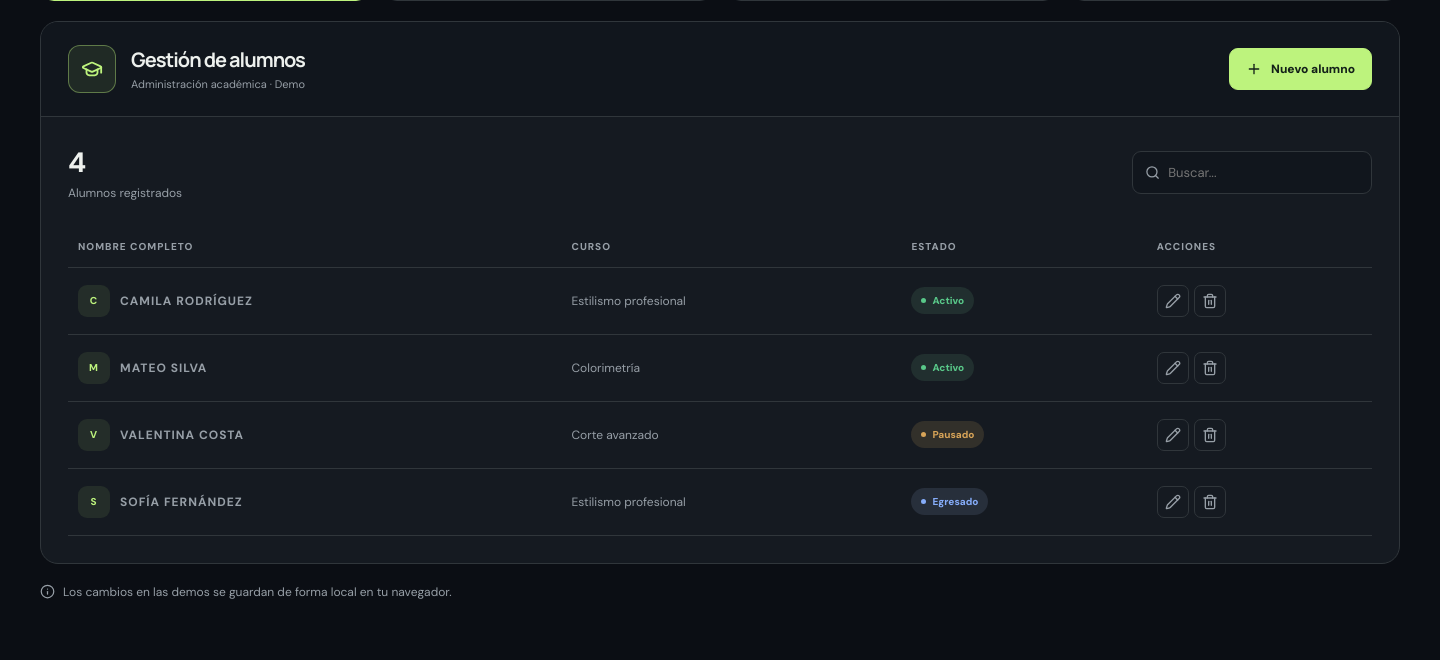
Test: Laboratory — additional business workflow regressions › updates an existing student without duplicating the record
The width and height of the screenshot is (1440, 660).
(page scrolled)
Click the button named "Editar: Camila Rodríguez".
click(1173, 301)  # box [1157,285,1189,317]
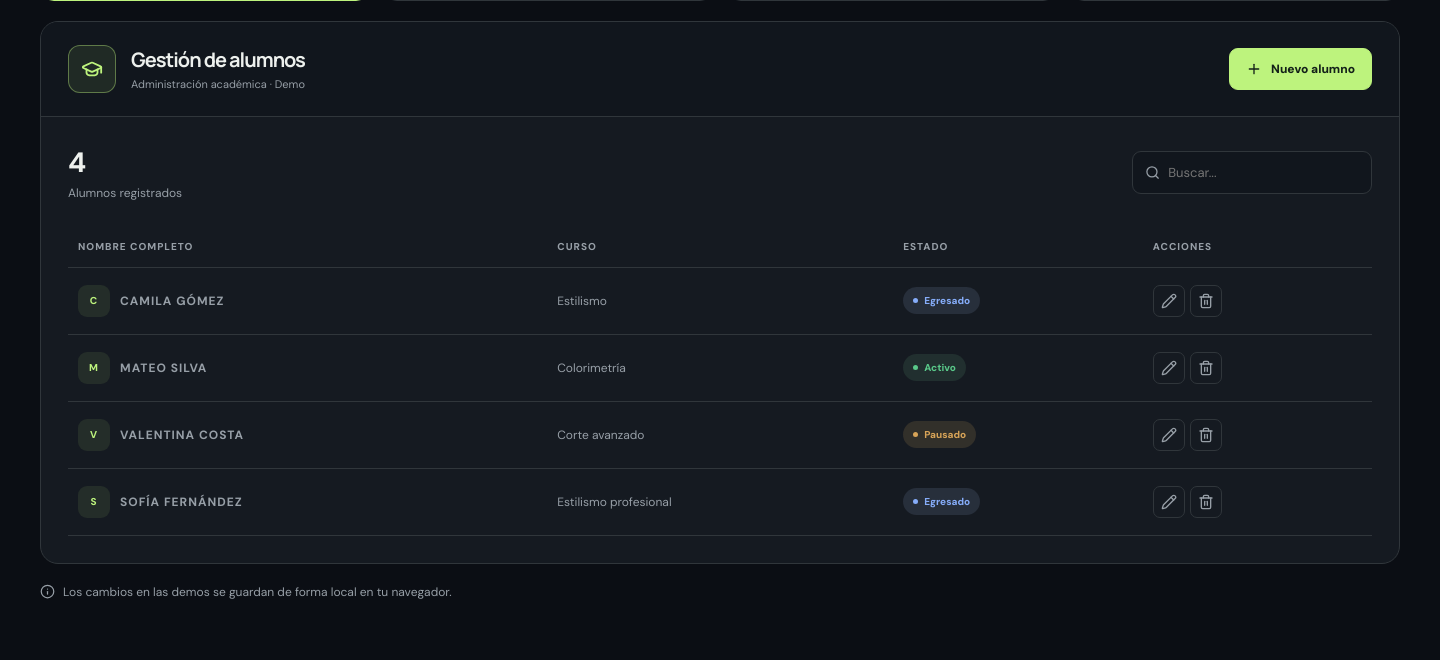
Result: the text "Camila Gómez" is shown at [120,293,224,309]
Result: the text "Camila Rodríguez" is gone
